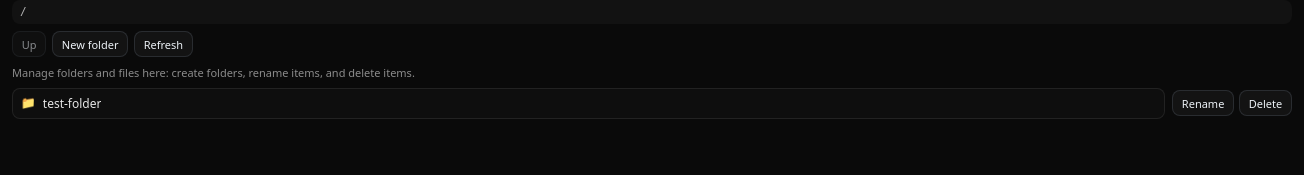
WorkspaceFilePanel - Folder Operations Unit Tests › Folder deletion shows confirmation (Requirement 3.1, 3.2) › should delete folder when user confirms
Expected: the text "test-folder" is shown, x1=43 y1=95 x2=101 y2=112
Click the button "Delete" at (1266, 103), box x1=1239 y1=90 x2=1292 y2=116
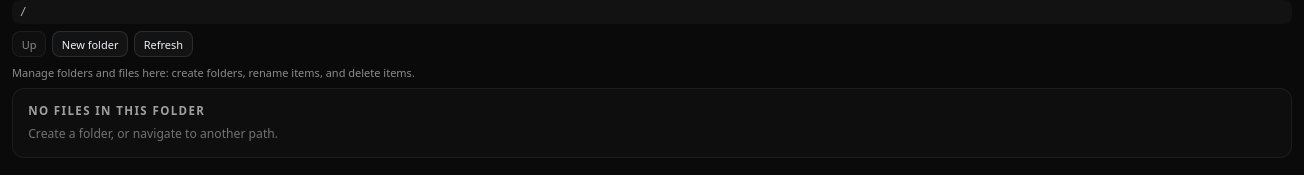
Now the button "test-folder" is gone
